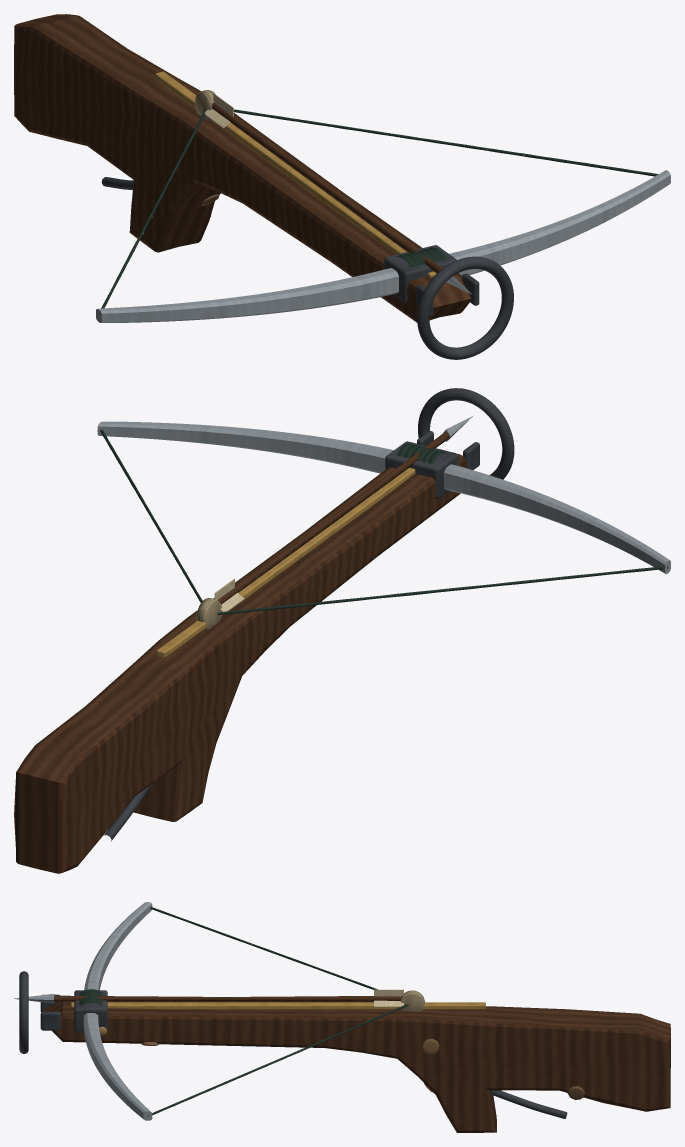
The model's file is crossbow.glb.
3 renders of one model, top to bottom at view 1: azimuth 30°, elevation 25°; view 2: azimuth 150°, elevation 25°; view 3: azimuth 270°, elevation 25°, orthographic. The views are drawn at different scales.
Parts seen in each view (by area): view 1: wood / oiled hardwood, steel / forged blade steel, darksteel / oil-blackened fittings, cord / waxed silk cord wrap, brass / polished brass furniture; view 2: wood / oiled hardwood, steel / forged blade steel, darksteel / oil-blackened fittings, cord / waxed silk cord wrap, brass / polished brass furniture; view 3: wood / oiled hardwood, steel / forged blade steel, darksteel / oil-blackened fittings, brass / polished brass furniture, cord / waxed silk cord wrap, drawbore peg, horn / polished horn and bone, paper / paper and vellum.
Boxes of the visible parts, x1,y1,x2,y2 form: wood / oiled hardwood: (14, 14, 471, 322); steel / forged blade steel: (96, 170, 670, 322); darksteel / oil-blackened fittings: (101, 177, 513, 359); cord / waxed silk cord wrap: (98, 109, 658, 314); brass / polished brass furniture: (155, 71, 436, 277); wood / oiled hardwood: (14, 432, 466, 873); steel / forged blade steel: (97, 416, 670, 574); darksteel / oil-blackened fittings: (104, 388, 514, 841); cord / waxed silk cord wrap: (100, 429, 668, 615); brass / polished brass furniture: (156, 467, 415, 657); wood / oiled hardwood: (45, 995, 670, 1132); steel / forged blade steel: (14, 902, 152, 1120); darksteel / oil-blackened fittings: (19, 971, 567, 1118); brass / polished brass furniture: (71, 1002, 485, 1009); cord / waxed silk cord wrap: (79, 907, 408, 1116); drawbore peg: (141, 1038, 584, 1099); horn / polished horn and bone: (400, 990, 424, 1011); paper / paper and vellum: (374, 989, 403, 1006).
Size of the model in its own units: 0.7423 by 0.2478 by 0.9813.
Materials: 10 (7 with a texture image).
